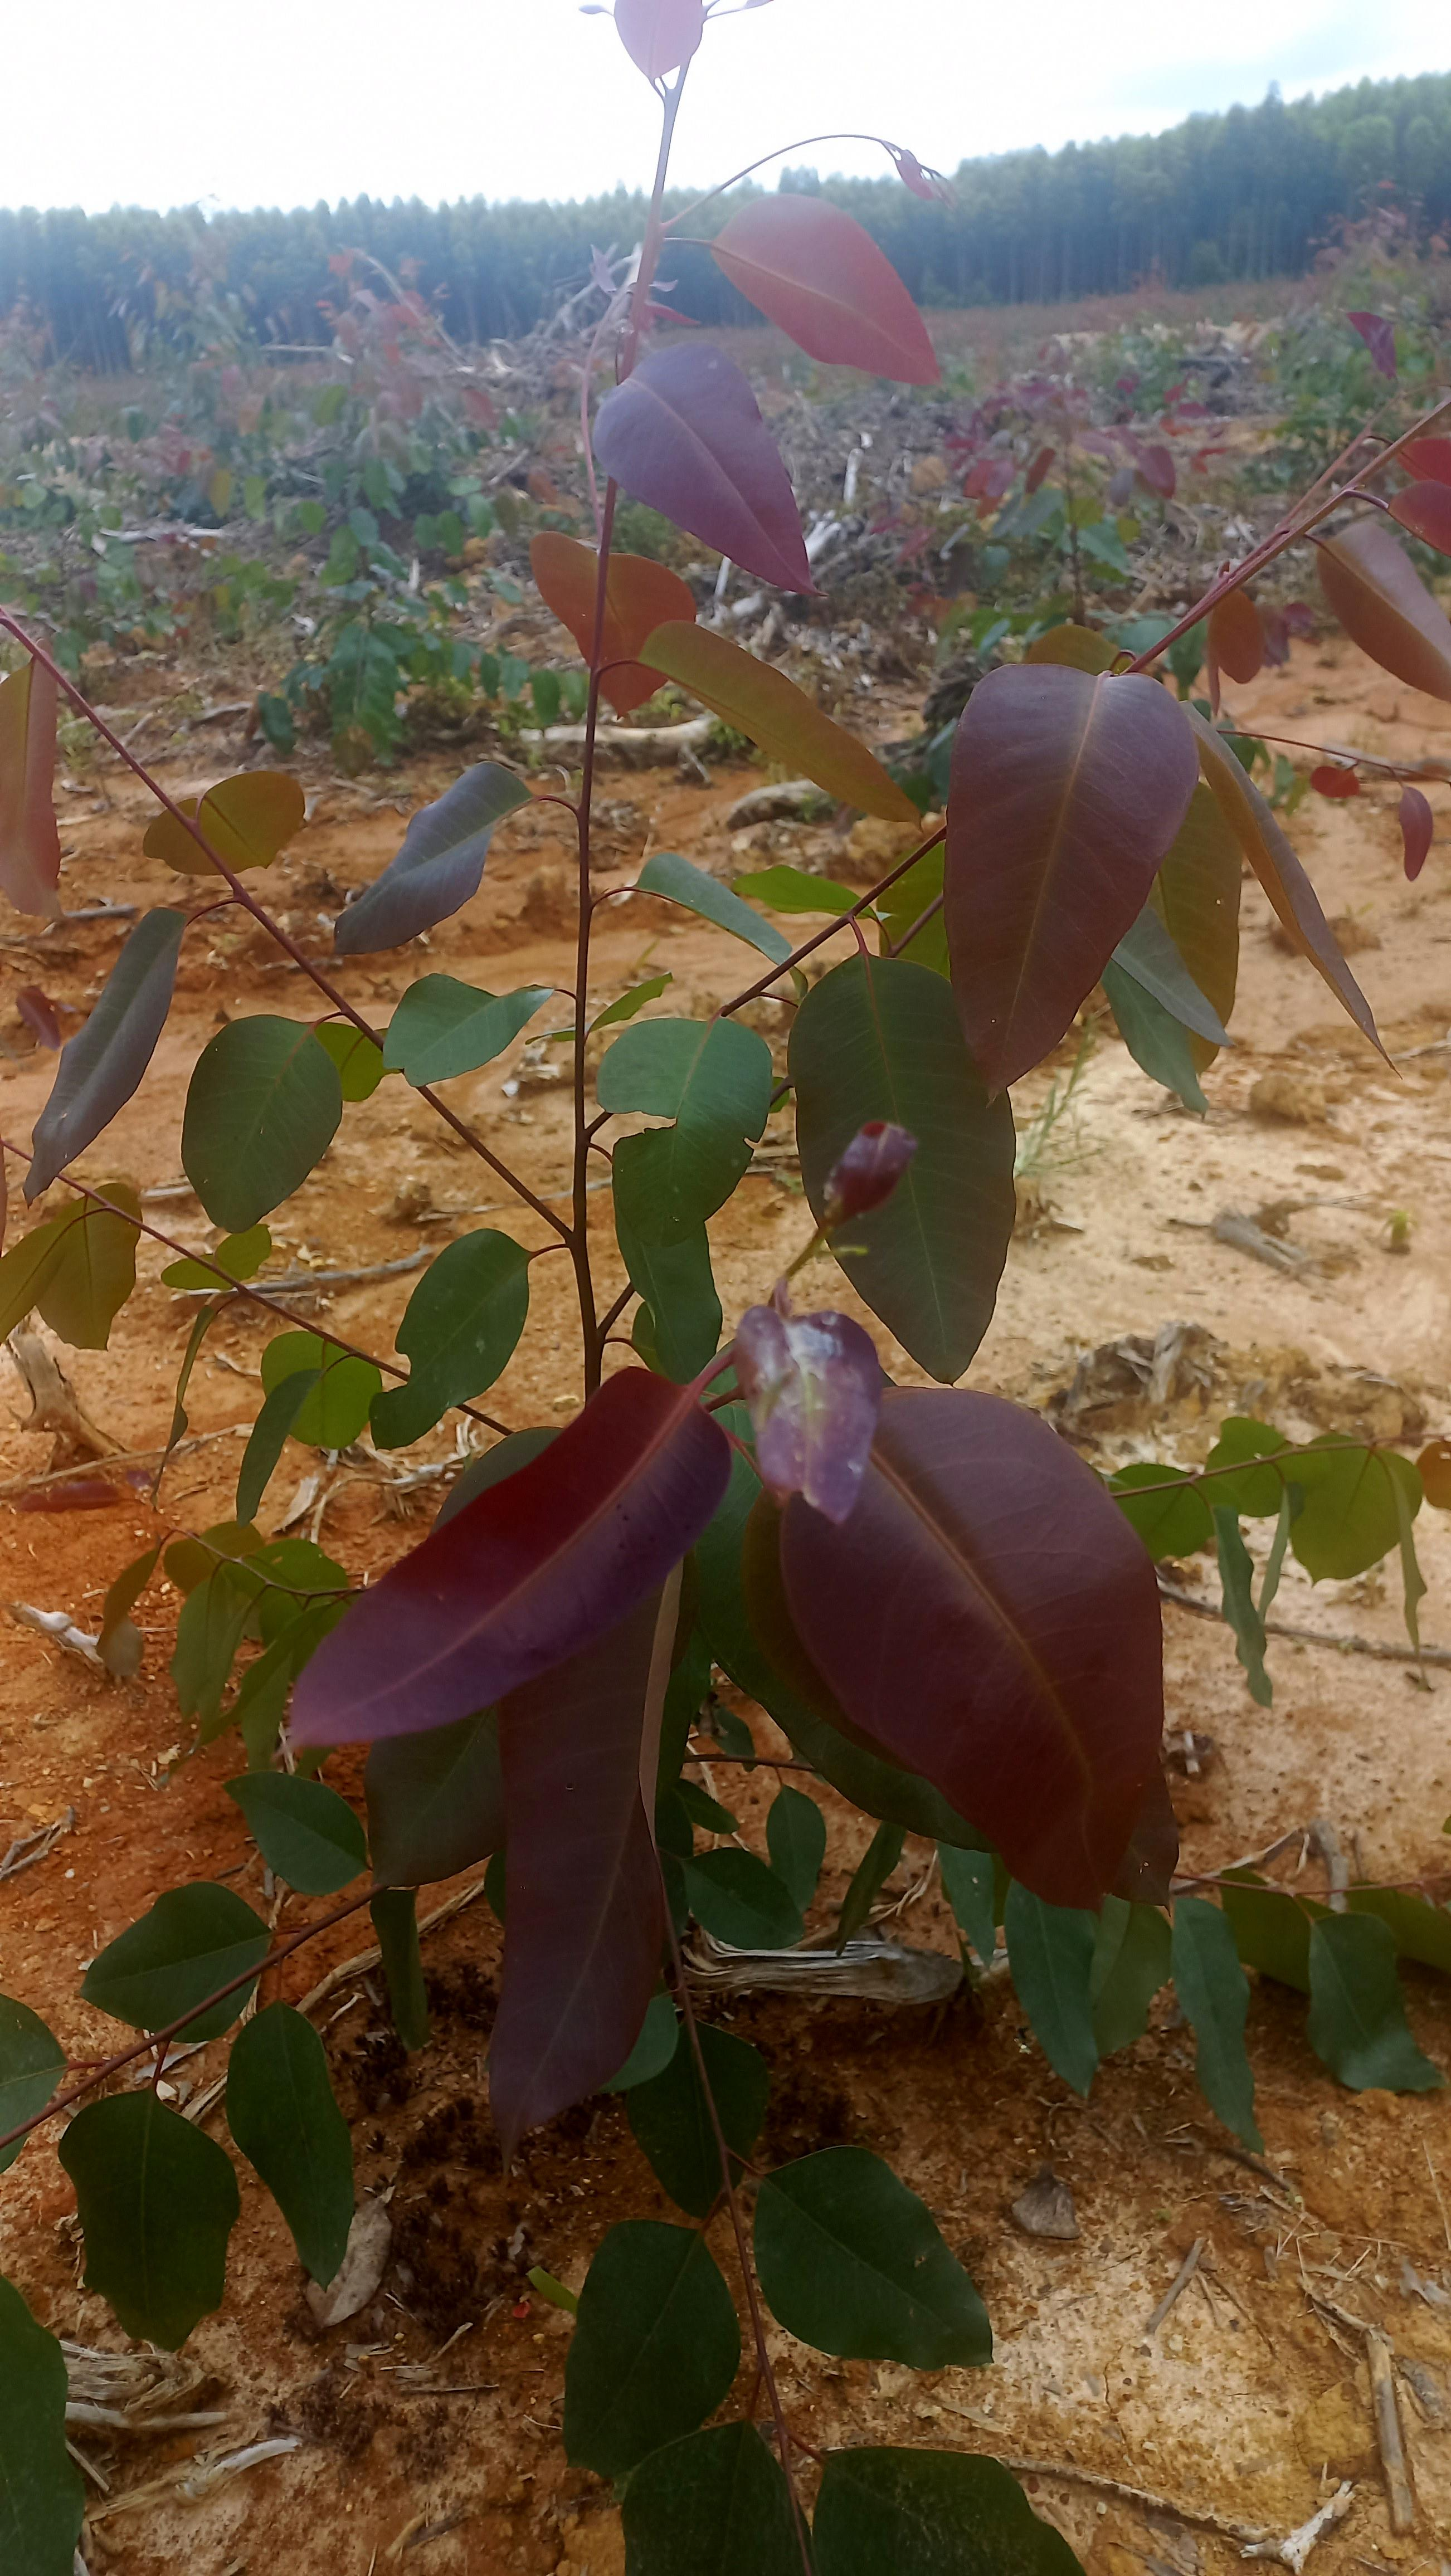Helopeltis-Withered Sprout: (878, 133, 963, 211)
Leaf Roller - Leaf: (724, 1302, 899, 1500), (818, 1116, 922, 1238)
